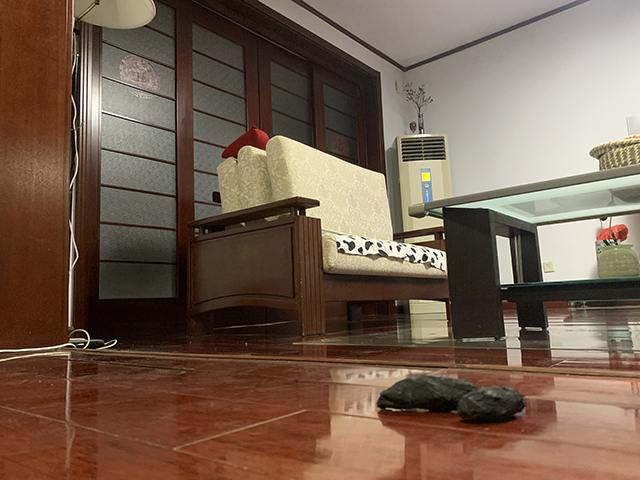feces: (376, 370, 527, 424)
sofa: (184, 125, 452, 339)
table: (407, 162, 640, 342)
wire: (1, 325, 120, 363)
